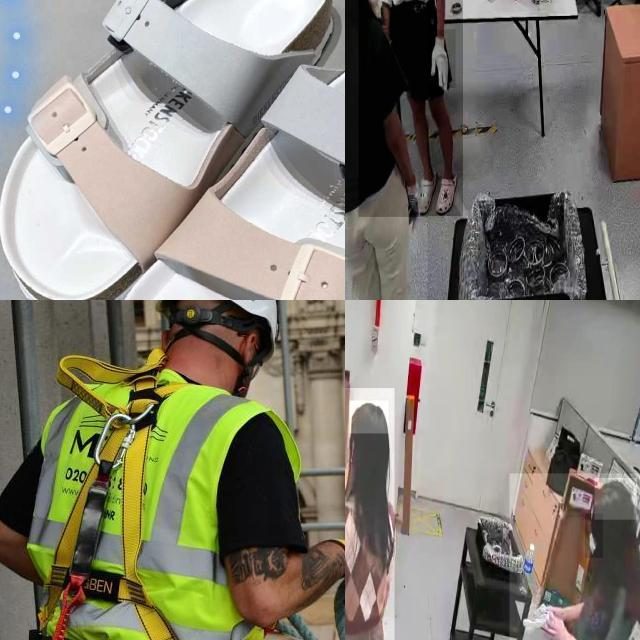Harness: (28, 356, 192, 640)
No_Ear-Protection: (240, 328, 259, 363)
Sandals: (0, 0, 345, 300)
face_mask: (585, 513, 603, 558)
hand_glove: (426, 29, 456, 89)
hand_noglove: (539, 608, 564, 640)
head_nohelmet: (594, 478, 638, 520), (349, 400, 389, 434)
person: (345, 0, 428, 300), (358, 0, 463, 216), (509, 473, 640, 640), (345, 388, 394, 640)
